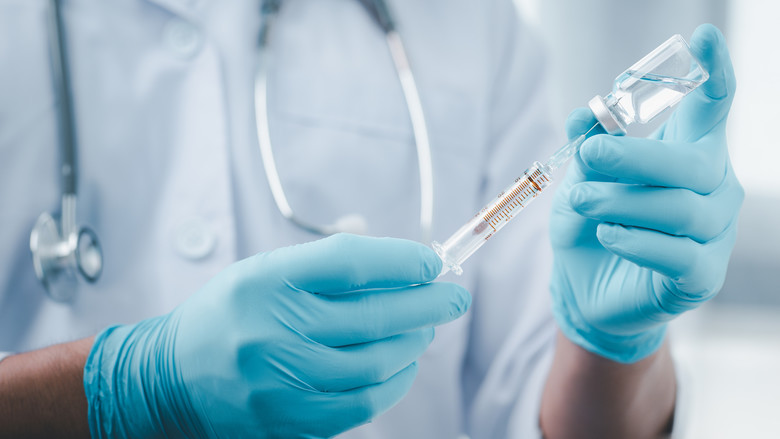Gloves: (80, 228, 473, 439), (548, 21, 750, 363)
